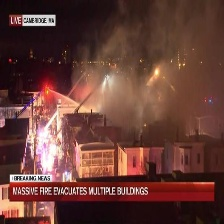smoke: (89, 6, 224, 123)
